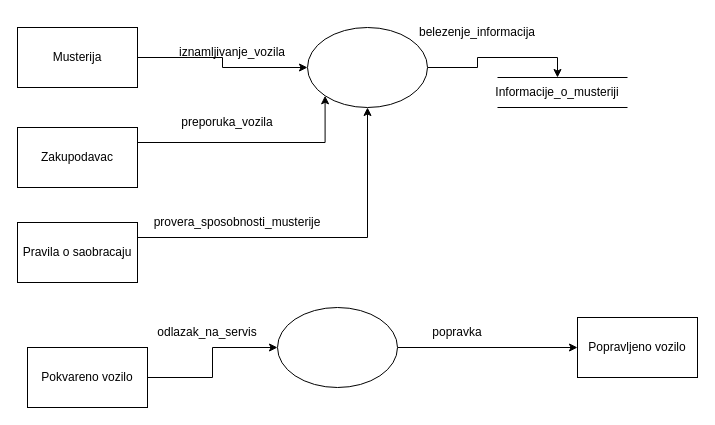
This 715x425 diagram has some shape labels left out. Here are the shapes that lost their labels. From the top down, the box of each, then its label:
(306, 26, 428, 108): 1.Rentiranje automobila
(276, 306, 398, 388): 2.Servisiranje sluzbenih automobila
